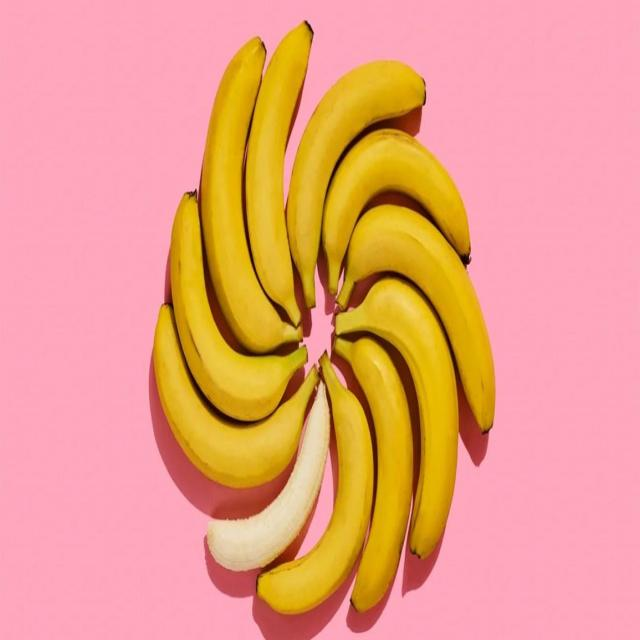banana: (334, 200, 501, 445), (284, 51, 430, 323), (332, 273, 467, 562), (197, 21, 305, 360), (168, 179, 310, 430), (254, 345, 376, 622), (242, 11, 321, 329), (327, 124, 472, 297), (329, 331, 417, 611)
